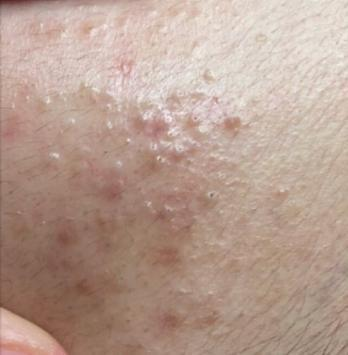acne_scars: (151, 242, 188, 267)
blackhead: (145, 141, 201, 175), (201, 181, 236, 213), (112, 156, 132, 196), (159, 111, 183, 142), (45, 146, 71, 173), (119, 131, 142, 154), (202, 64, 225, 87), (162, 203, 184, 227), (80, 24, 102, 43), (78, 140, 97, 159), (189, 111, 202, 129)
papular: (75, 266, 103, 304), (219, 110, 247, 138), (46, 225, 80, 245), (164, 308, 184, 334)
whitehead: (88, 86, 130, 103), (41, 93, 54, 112)
